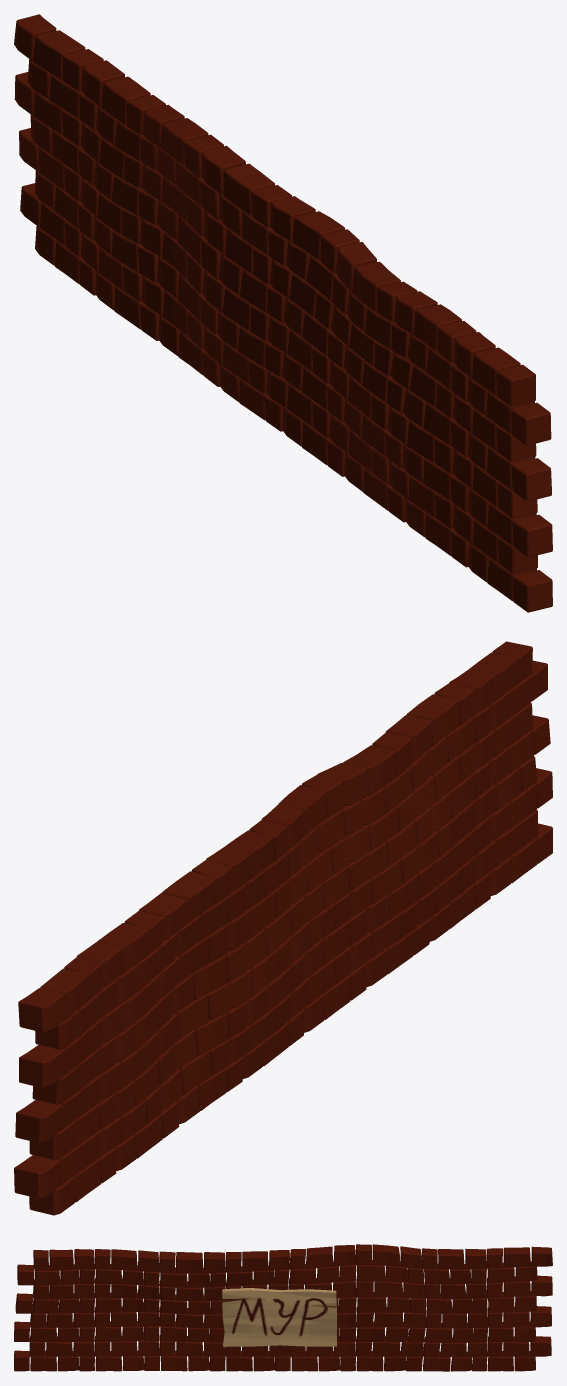
The model's file is wall.fbx.
The picture shows the model from 3 angles, top to bottom: view 1: azimuth 30°, elevation 25°; view 2: azimuth 150°, elevation 25°; view 3: azimuth 270°, elevation 25°; orthographic projection. The views are drawn at different scales.
Visible parts, largest first — view 1: wall; view 2: wall; view 3: wall, Cube.
Boxes of the visible parts, bbox=[...] form: wall: bbox=[14, 14, 552, 612]; wall: bbox=[14, 641, 552, 1215]; wall: bbox=[14, 1244, 552, 1371]; Cube: bbox=[222, 1288, 336, 1346].
Size of the model in its own units: 6810 by 360 by 1678.
